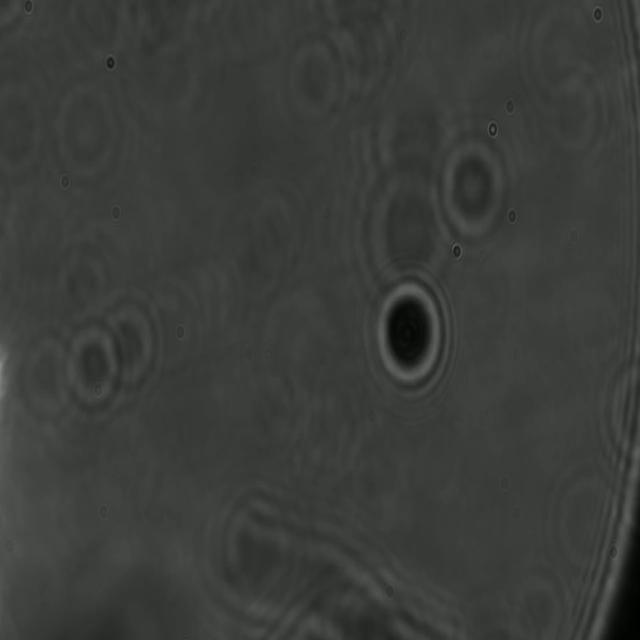DCELL: (370, 271, 452, 399)
